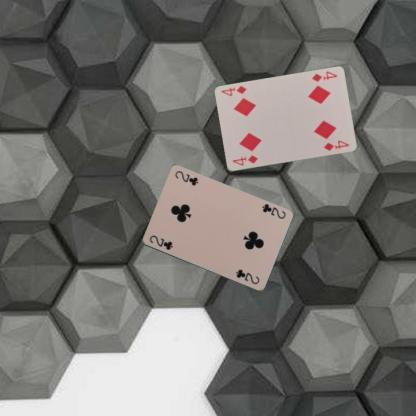2c: (260, 201, 286, 220), (147, 233, 174, 251)
4d: (230, 152, 259, 168), (309, 68, 338, 83)
